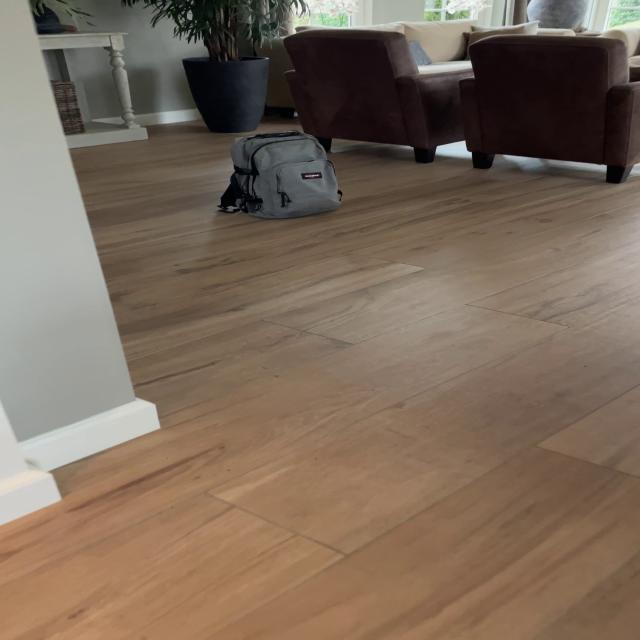backpack: (214, 126, 348, 223)
